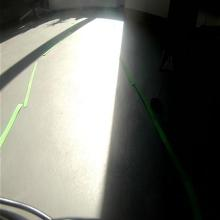crosswalk: (159, 49, 178, 74)
